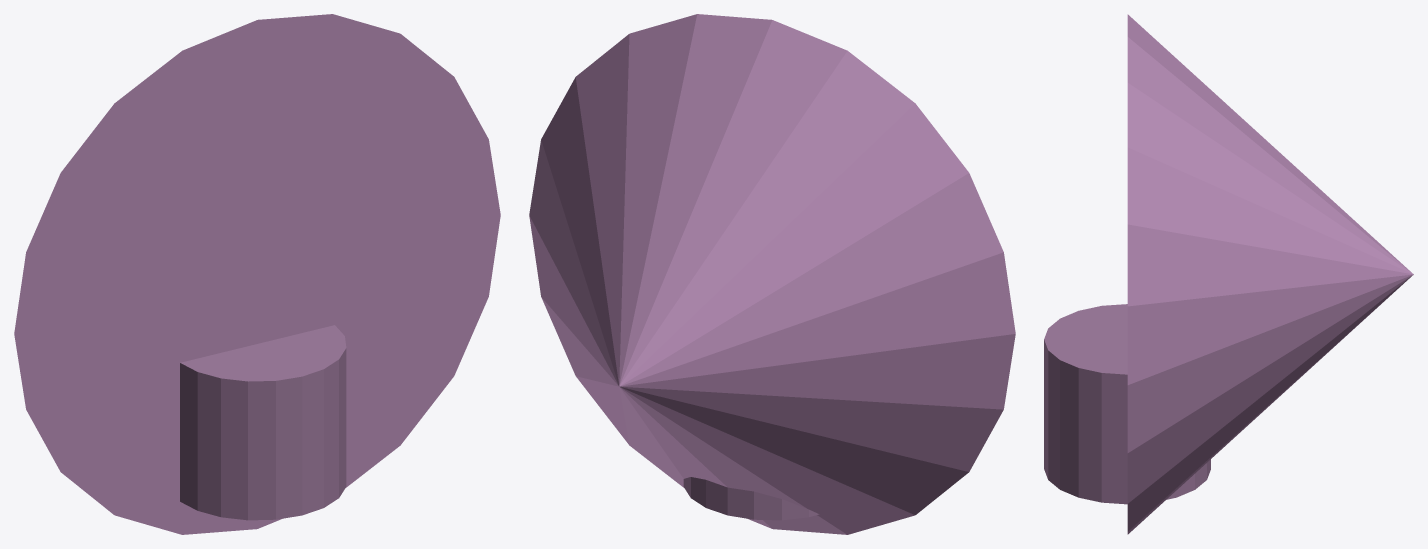
The model's file is sink.glb.
3 renders of one model, left to right at view 1: azimuth 30°, elevation 25°; view 2: azimuth 150°, elevation 25°; view 3: azimuth 270°, elevation 25°, orthographic. The views are drawn at different scales.
Visible parts, largest first — view 1: sink_0, sink_1; view 2: sink_0, sink_1; view 3: sink_0, sink_1.
Part boxes in pixels (box(x1,y1,x2,y2)): sink_0: box(14, 14, 500, 534); sink_1: box(180, 325, 346, 520); sink_0: box(529, 14, 1015, 534); sink_1: box(683, 477, 819, 520); sink_0: box(1127, 14, 1413, 534); sink_1: box(1044, 304, 1210, 504).
Bounding box in the file's own units: 2.2 × 2.2 × 1.55.
